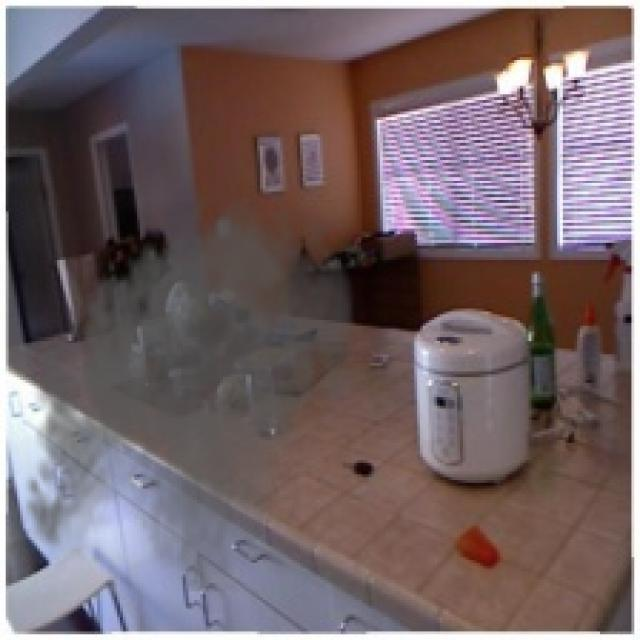Smoke: (14, 183, 363, 592)
